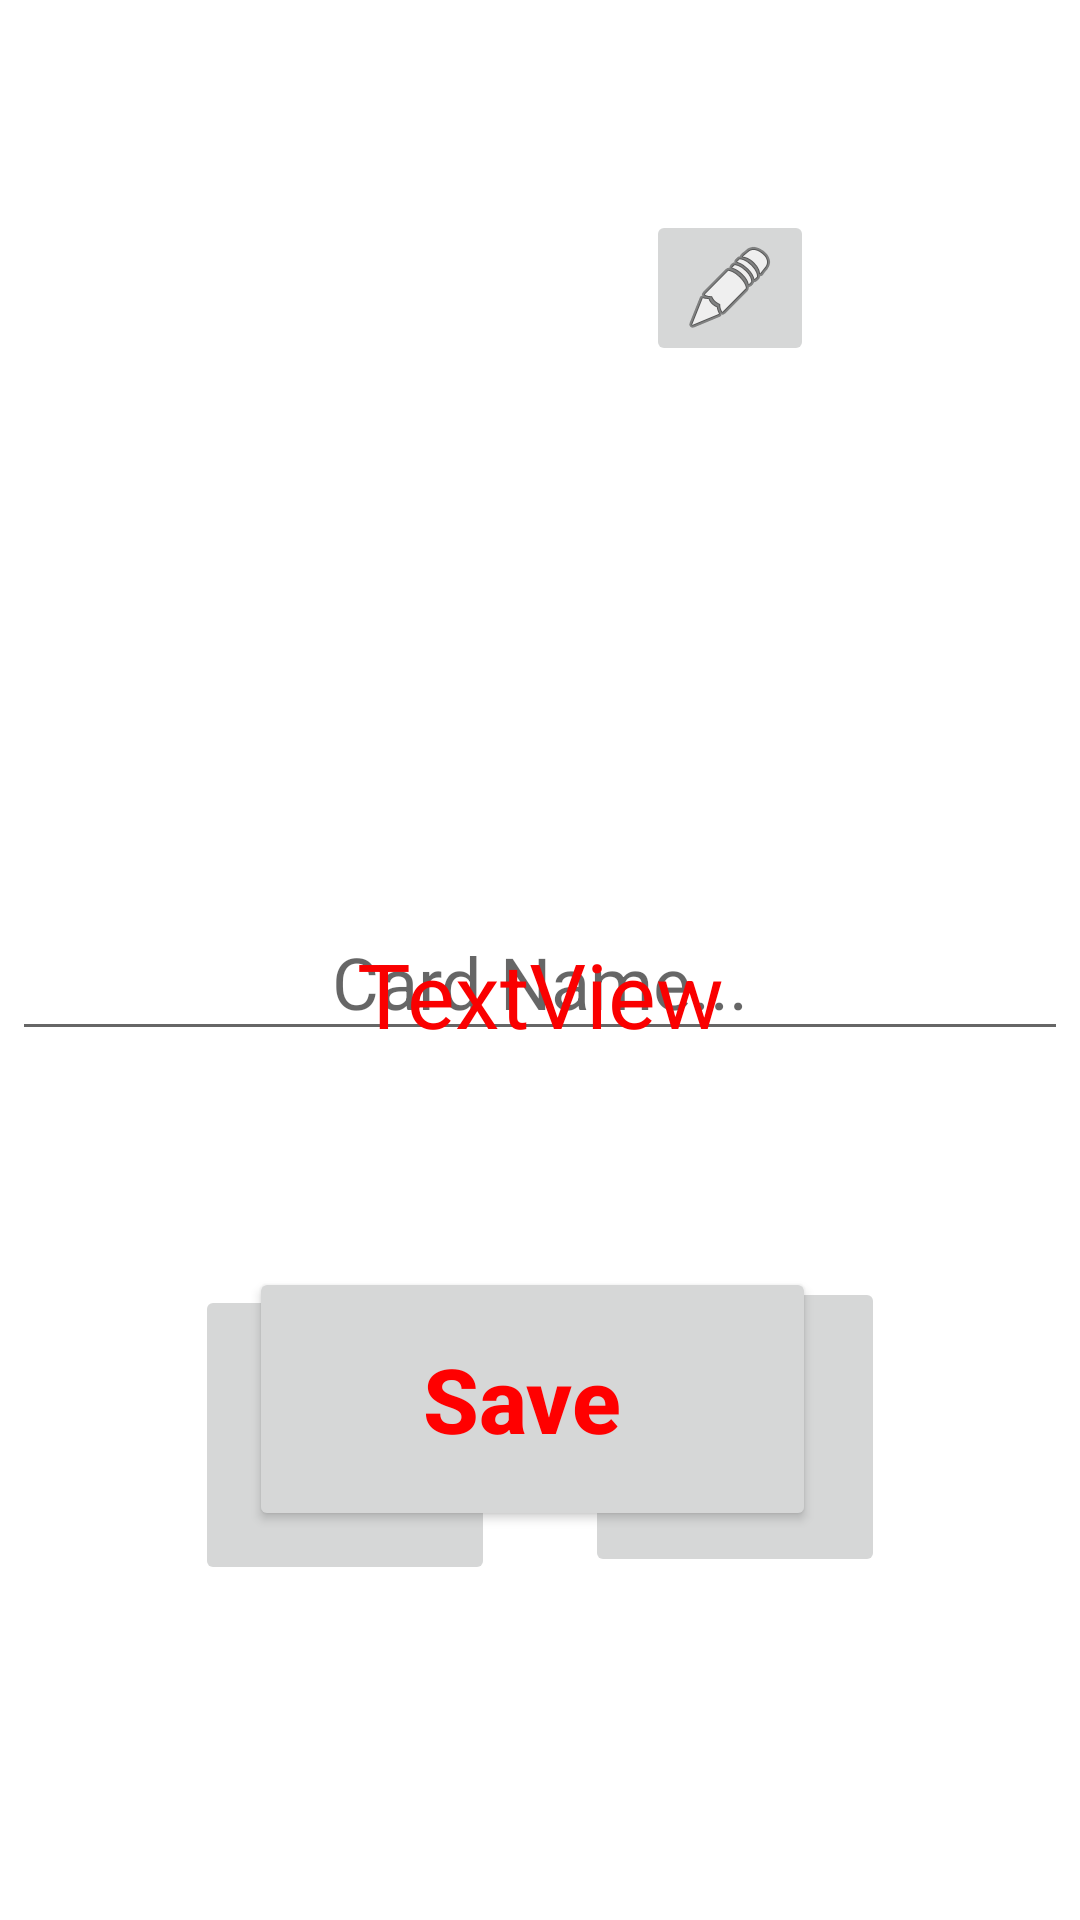

Screen size 1080 × 1920. Icon name, then its center in pixels as [x,y]:
edit: [730,288]
